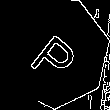P_NE: (25, 21, 84, 83)
